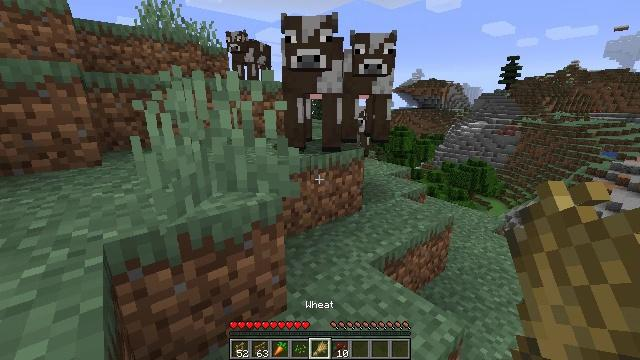cow: (280, 14, 342, 151), (343, 30, 399, 144), (227, 32, 272, 80)
